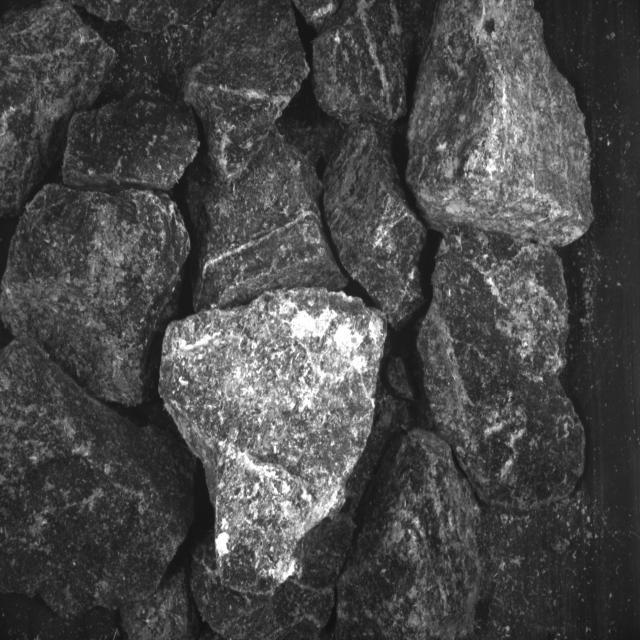Stones: (161, 289, 387, 594), (1, 340, 195, 618), (419, 229, 586, 510), (407, 1, 595, 246), (75, 1, 310, 181), (1, 185, 191, 406), (337, 430, 481, 640), (189, 131, 347, 311), (1, 3, 116, 218), (325, 123, 427, 328), (64, 96, 200, 191), (314, 1, 407, 124), (121, 569, 200, 640), (294, 1, 341, 33)
